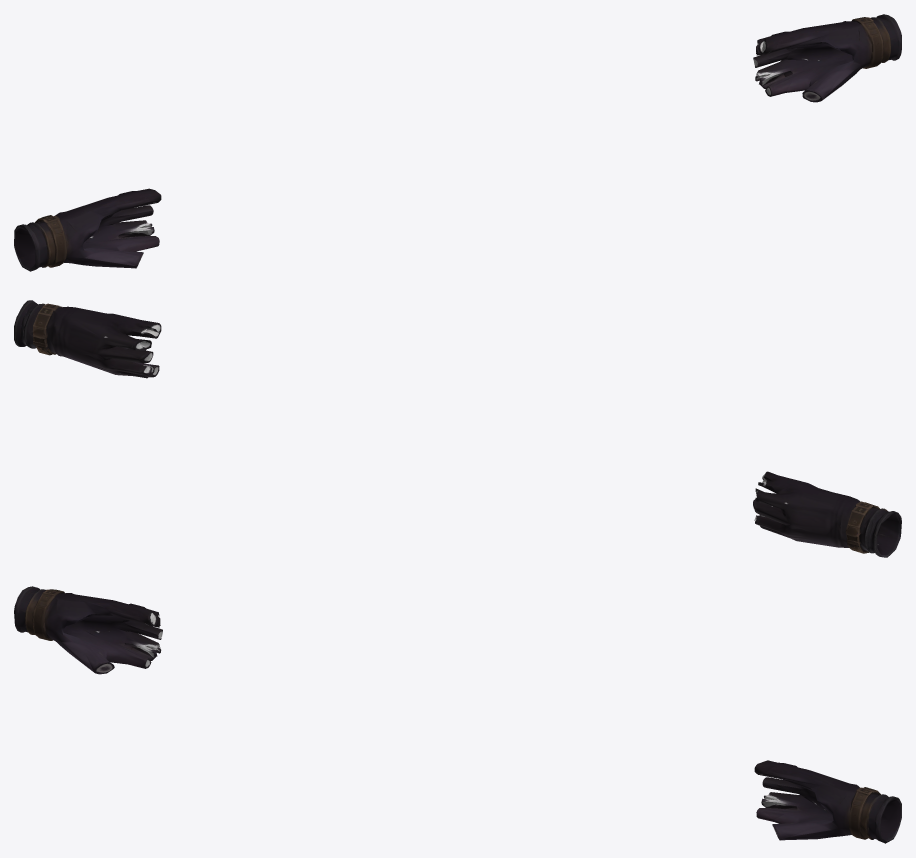
Rendered from mage_f_gloves.glb.
3 renders of one model, top to bottom at view 1: azimuth 30°, elevation 25°; view 2: azimuth 150°, elevation 25°; view 3: azimuth 330°, elevation 25°, orthographic.
Parts seen in each view (by area): view 1: world; view 2: world; view 3: world.
Part boxes in pixels (x1=…): world: x1=14, y1=14, x2=901, y2=271; world: x1=14, y1=300, x2=901, y2=557; world: x1=14, y1=586, x2=901, y2=843.
Bounding box in the file's own units: 1.64 × 0.1101 × 0.1199.
Materials: 1 (1 with a texture image).
